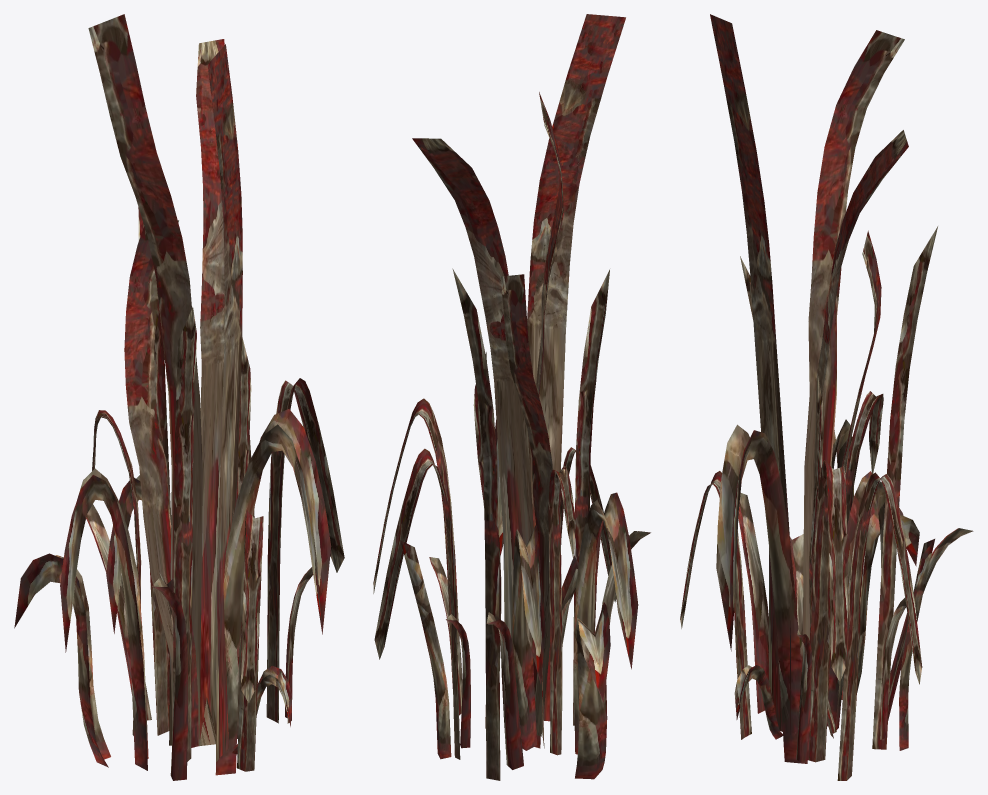
3 renders of one model, left to right at view 1: azimuth 30°, elevation 25°; view 2: azimuth 150°, elevation 25°; view 3: azimuth 270°, elevation 25°, orthographic. The views are drawn at different scales.
Visible parts, largest first — view 1: SM_Whip_AbyssalDemon_1H_01_LOD0; view 2: SM_Whip_AbyssalDemon_1H_01_LOD0; view 3: SM_Whip_AbyssalDemon_1H_01_LOD0.
Part boxes in pixels (x1,y1,x2,y2): SM_Whip_AbyssalDemon_1H_01_LOD0: (14,14,344,780); SM_Whip_AbyssalDemon_1H_01_LOD0: (373,14,650,780); SM_Whip_AbyssalDemon_1H_01_LOD0: (680,14,973,780).
Size of the model in its own units: 0.5763 by 1.46 by 0.5395.
